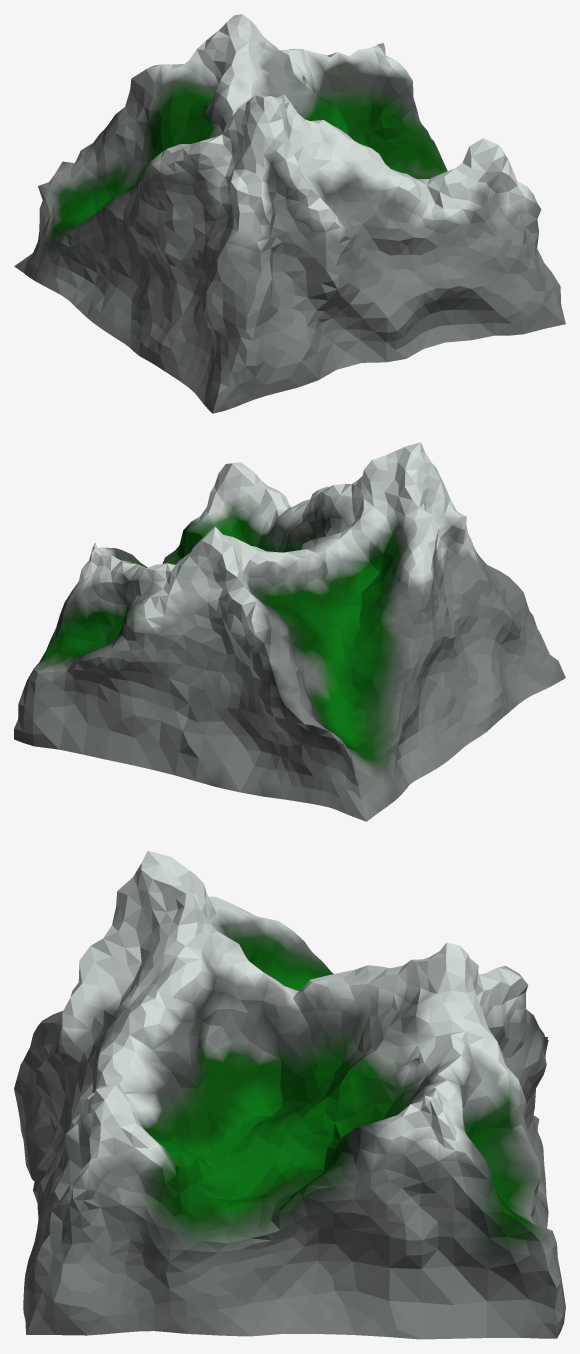
File: mountain1.glb
The picture shows the model from 3 angles, top to bottom: view 1: azimuth 30°, elevation 25°; view 2: azimuth 150°, elevation 25°; view 3: azimuth 270°, elevation 25°; orthographic projection. The views are drawn at different scales.
Parts seen in each view (by area): view 1: Cube; view 2: Cube; view 3: Cube.
Part boxes in pixels (box(x1,y1,x2,y2)): Cube: box(14, 14, 565, 413); Cube: box(14, 442, 565, 821); Cube: box(14, 850, 565, 1339).
Size of the model in its own units: 5.08 by 3.42 by 5.19.
